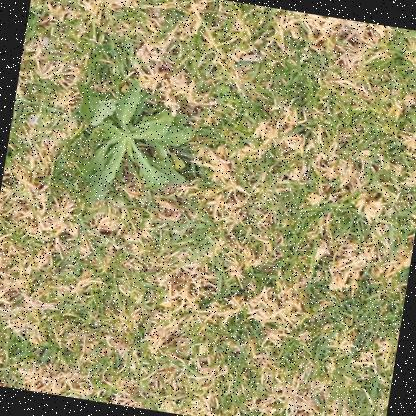Weeds: (57, 70, 201, 217)
